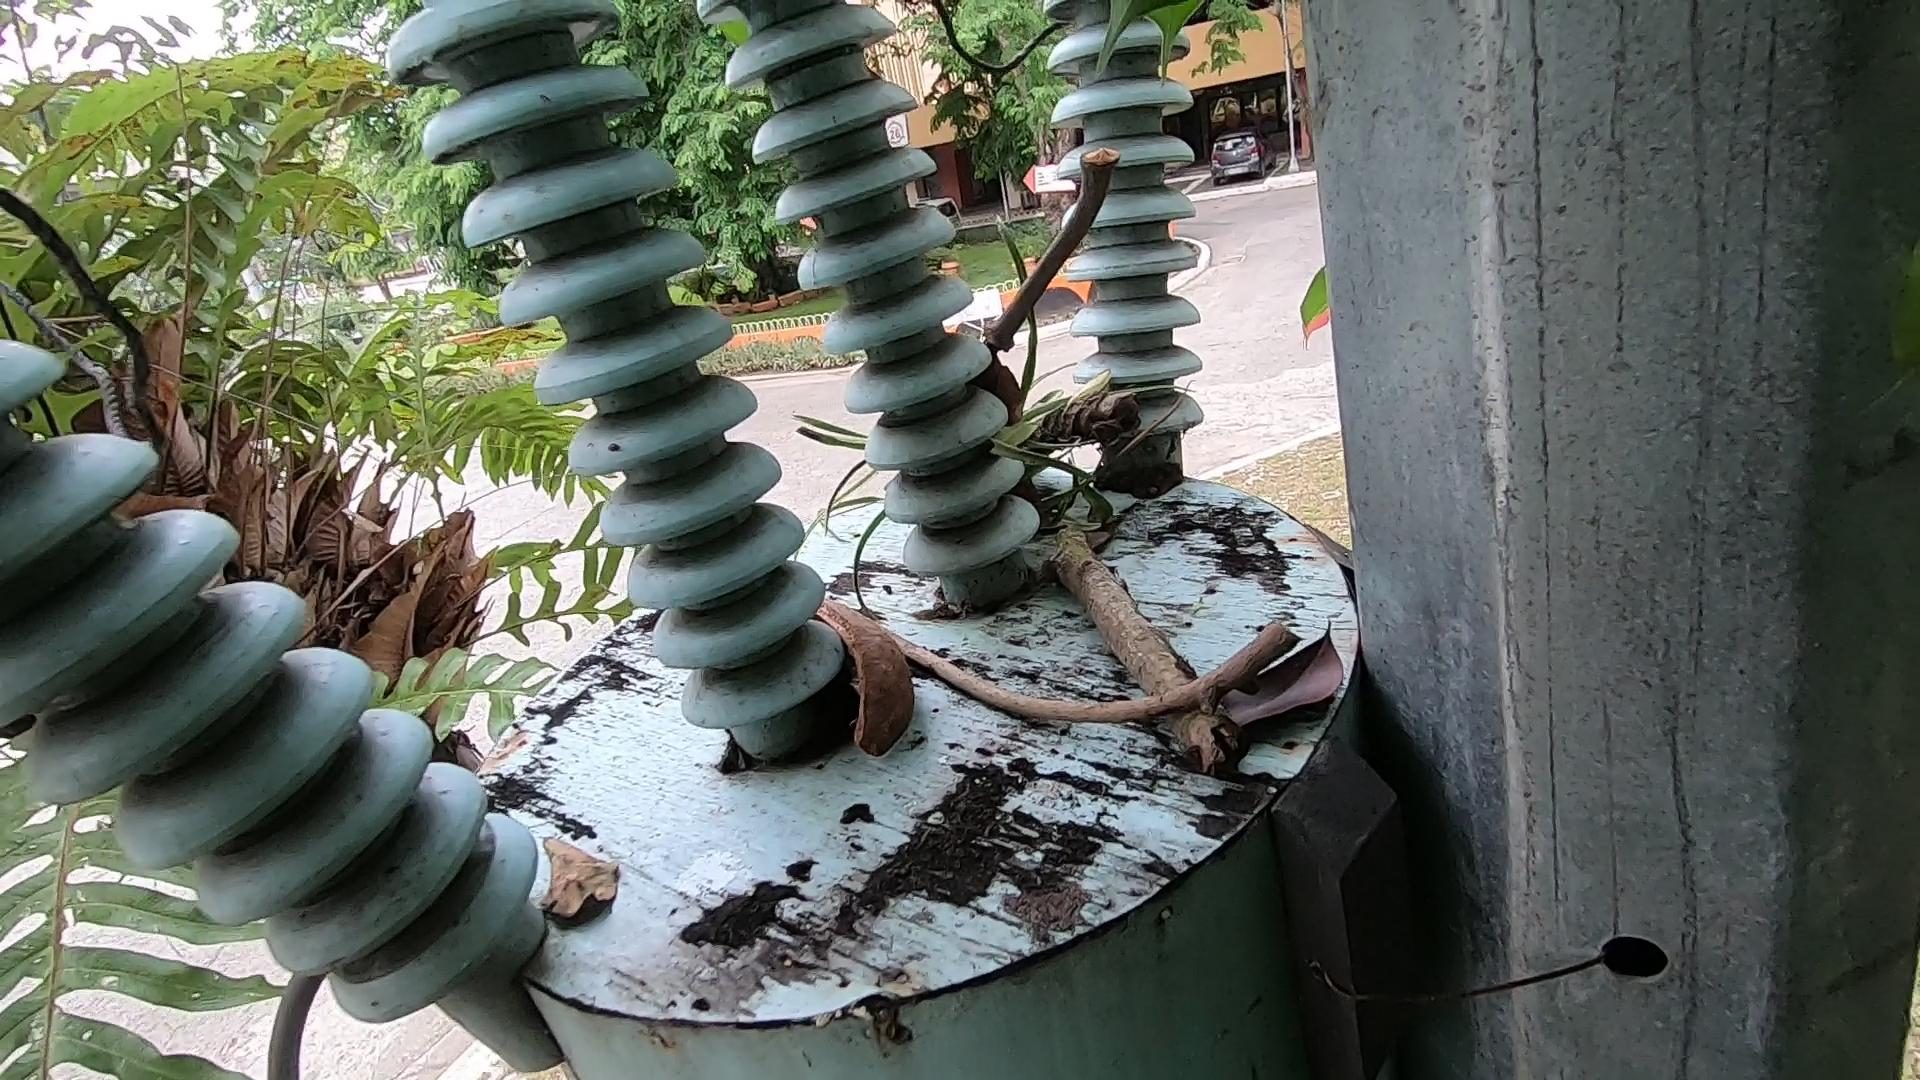branch with leaves: (951, 298, 1261, 775)
leaf: (1189, 609, 1428, 785), (491, 781, 665, 930)
mahogany fruit: (808, 555, 924, 773), (953, 336, 1054, 521)
tree branch: (922, 113, 1185, 465), (824, 584, 1316, 732)
